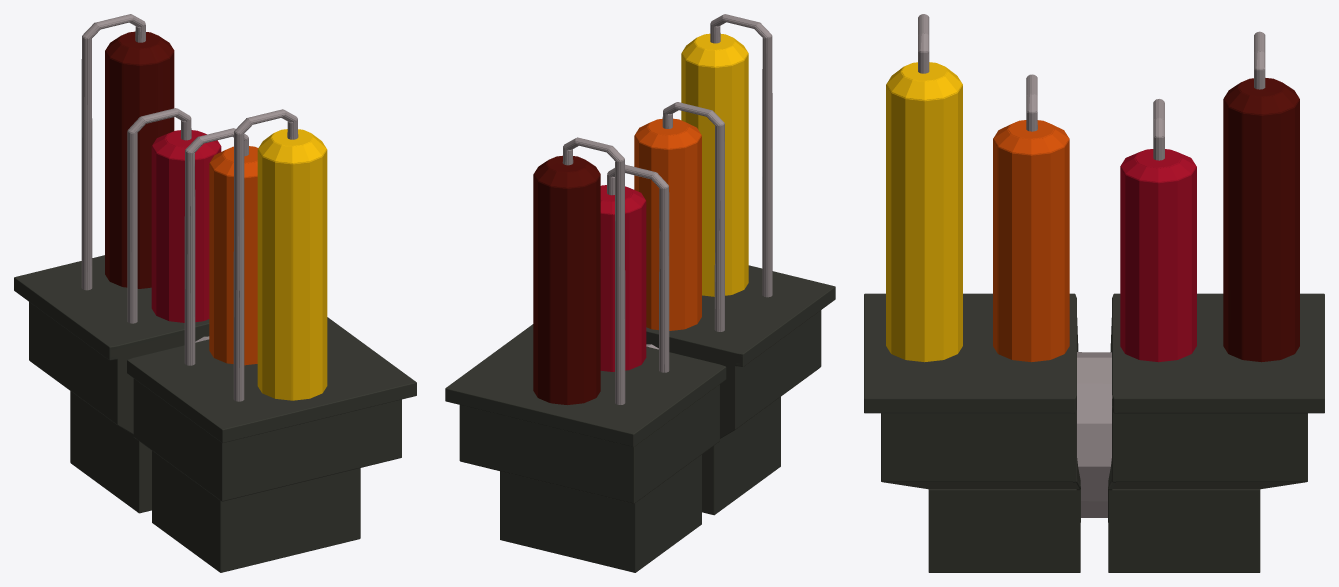
File: Machine.fbx
The picture shows the model from 3 angles, left to right: view 1: azimuth 30°, elevation 25°; view 2: azimuth 150°, elevation 25°; view 3: azimuth 270°, elevation 25°; orthographic projection. The views are drawn at different scales.
Parts seen in each view (by area): view 1: Cube.006; view 2: Cube.006; view 3: Cube.006.
Boxes of the visible parts, x1,y1,x2,y2 form: Cube.006: (14, 14, 416, 572); Cube.006: (445, 14, 835, 572); Cube.006: (864, 14, 1324, 572).
Size of the model in its own units: 125 by 275 by 231.
